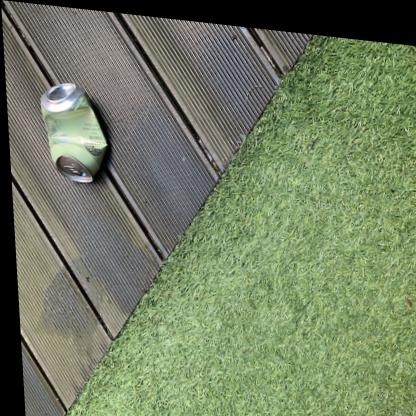trash: (41, 83, 107, 182)
